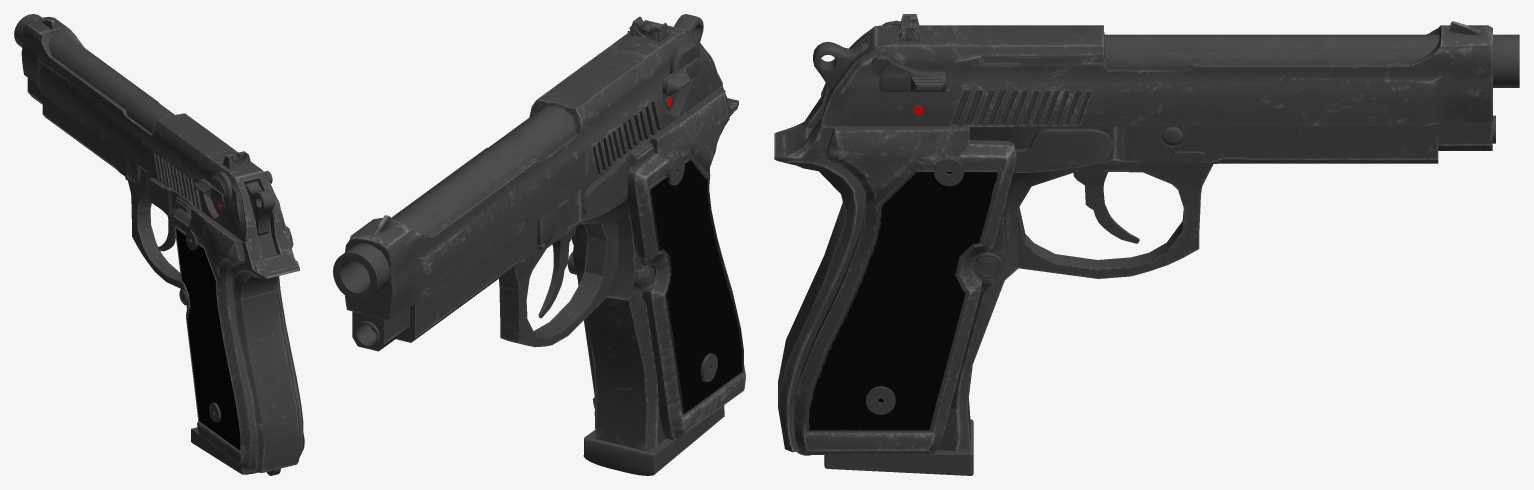
File: beretta.glb
3 renders of one model, left to right at view 1: azimuth 30°, elevation 25°; view 2: azimuth 150°, elevation 25°; view 3: azimuth 270°, elevation 25°, orthographic. The views are drawn at different scales.
Parts seen in each view (by area): view 1: beretta_model; view 2: beretta_model; view 3: beretta_model.
Boxes of the visible parts, box(x1,y1,x2,y2) form: beretta_model: box(14, 14, 304, 475); beretta_model: box(333, 14, 745, 475); beretta_model: box(774, 14, 1519, 475).
Bounding box in the file's own units: 0.0934 × 0.4055 × 0.62.
1 material, 1 textured.
